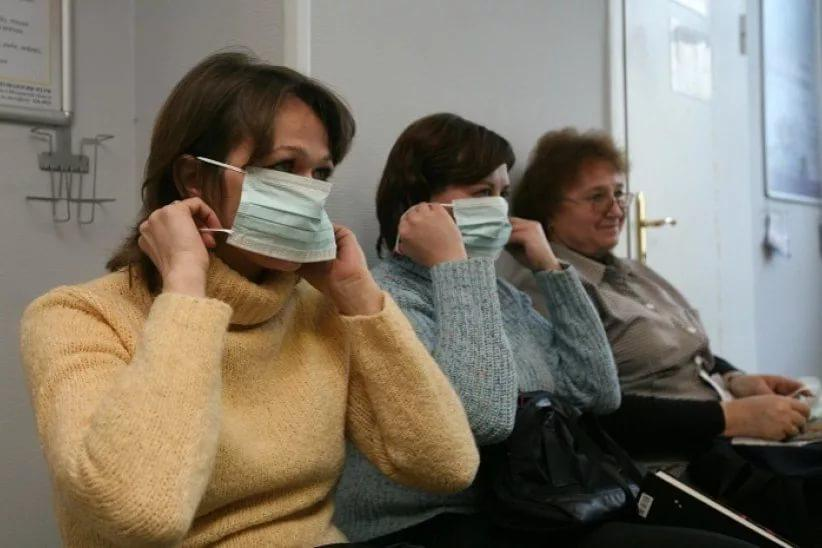mask: (220, 99, 339, 265), (425, 147, 514, 268)
none: (562, 158, 631, 248)
